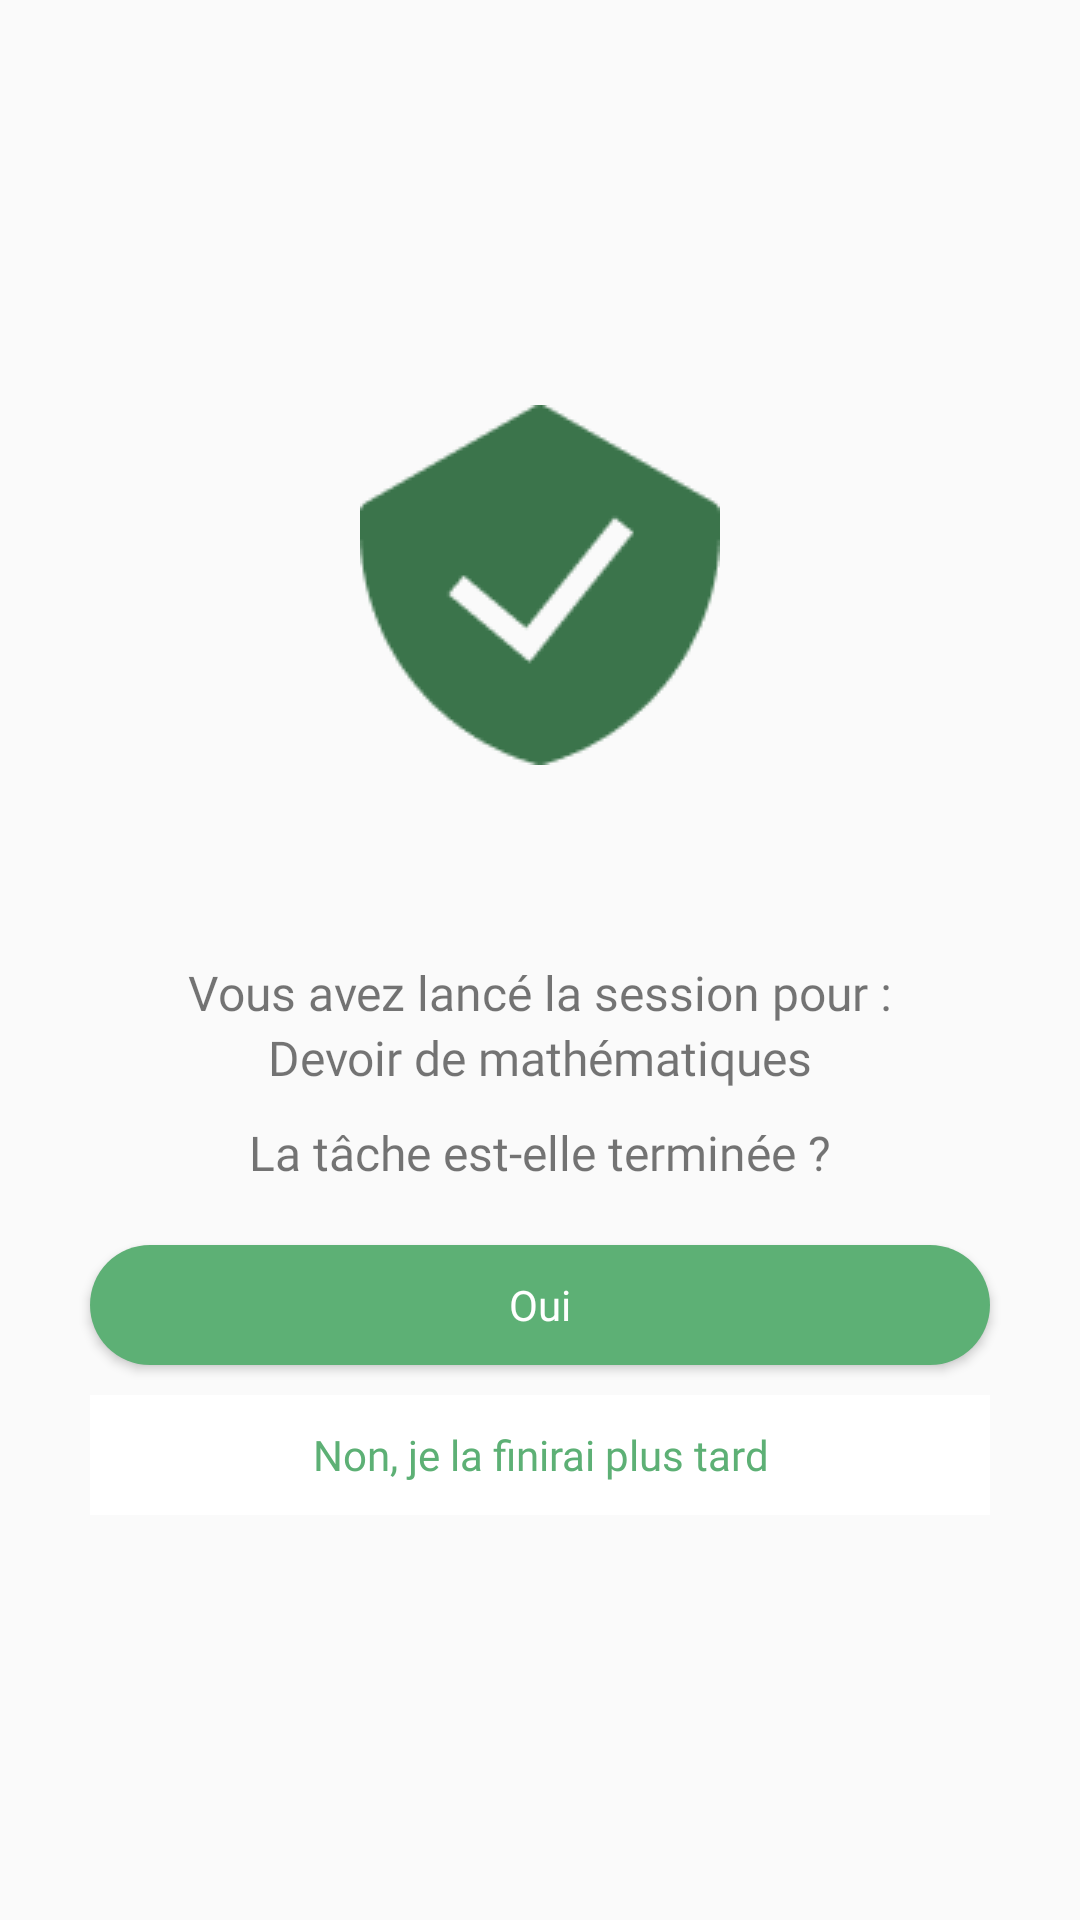

Icon bounding boxes for this 1080 x 1920 phone screenshot, format (x1, y1, x2, y2):
finishedsession: (360, 405, 720, 765)
